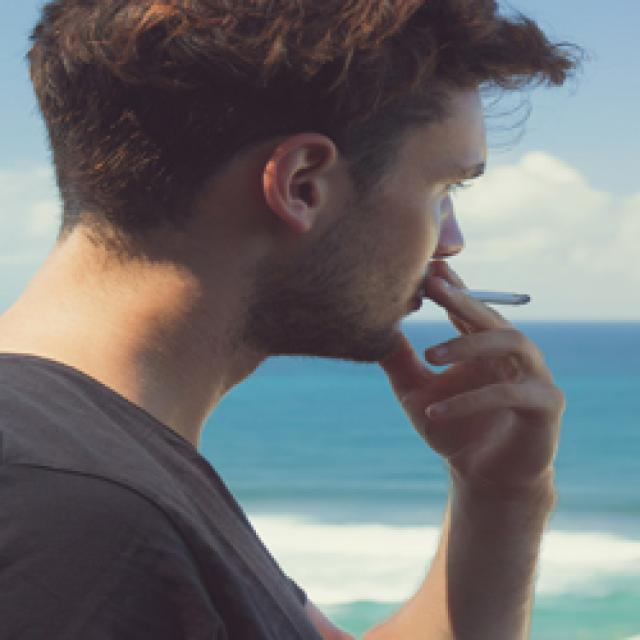Smooking: (431, 269, 551, 322)
